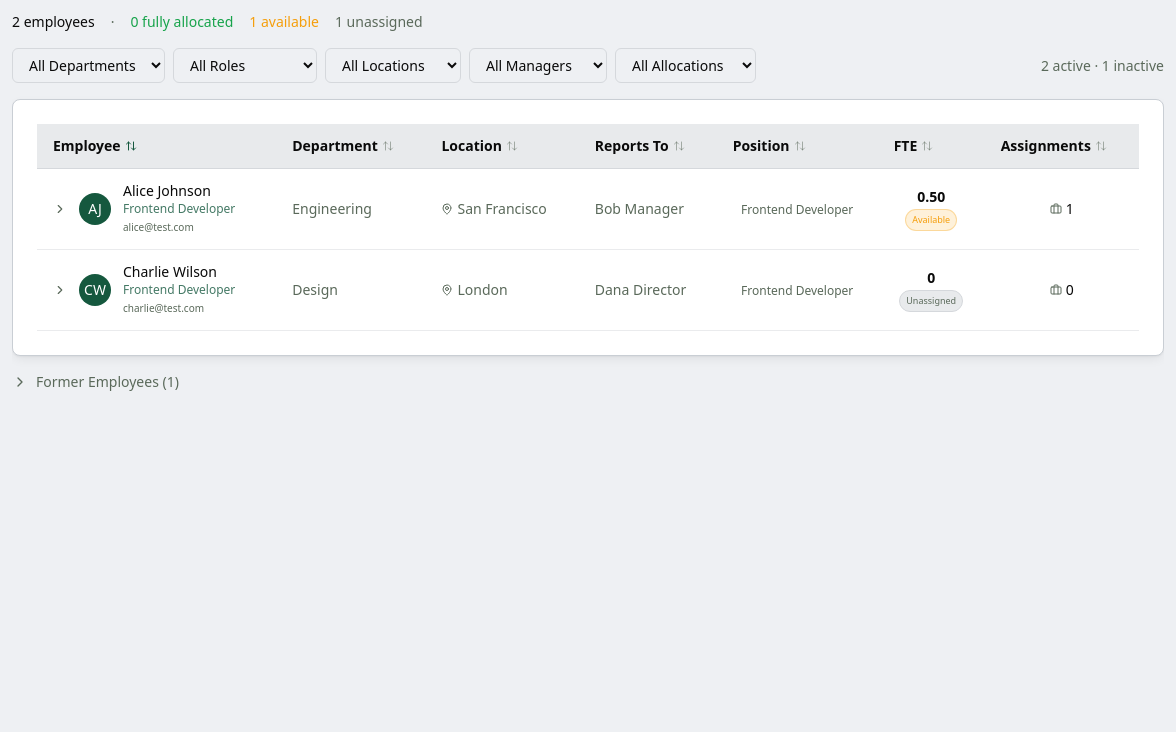
Test case: EmployeeList › shows inactive employees when toggled
# Click to show former employees
Click the button "Former Employees (1)". click: (95, 382)
box: [12,372,179,392]
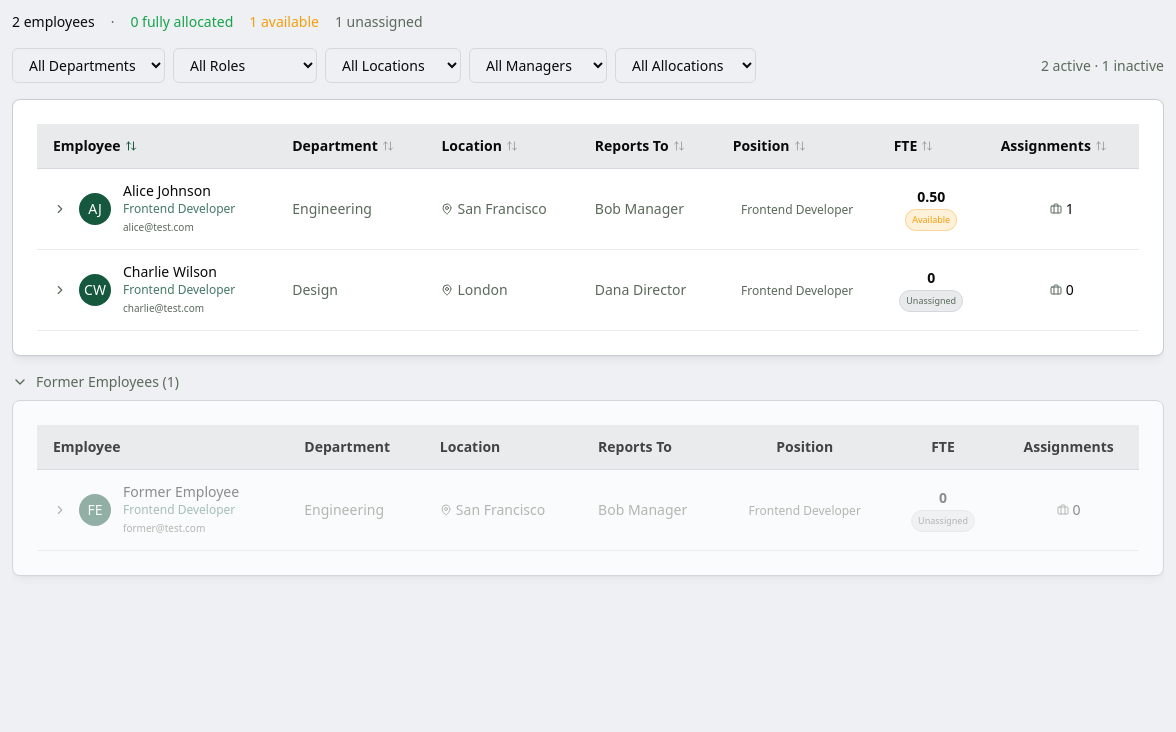
Expected: the link "Former Employee" is shown, [123,482,239,502]
